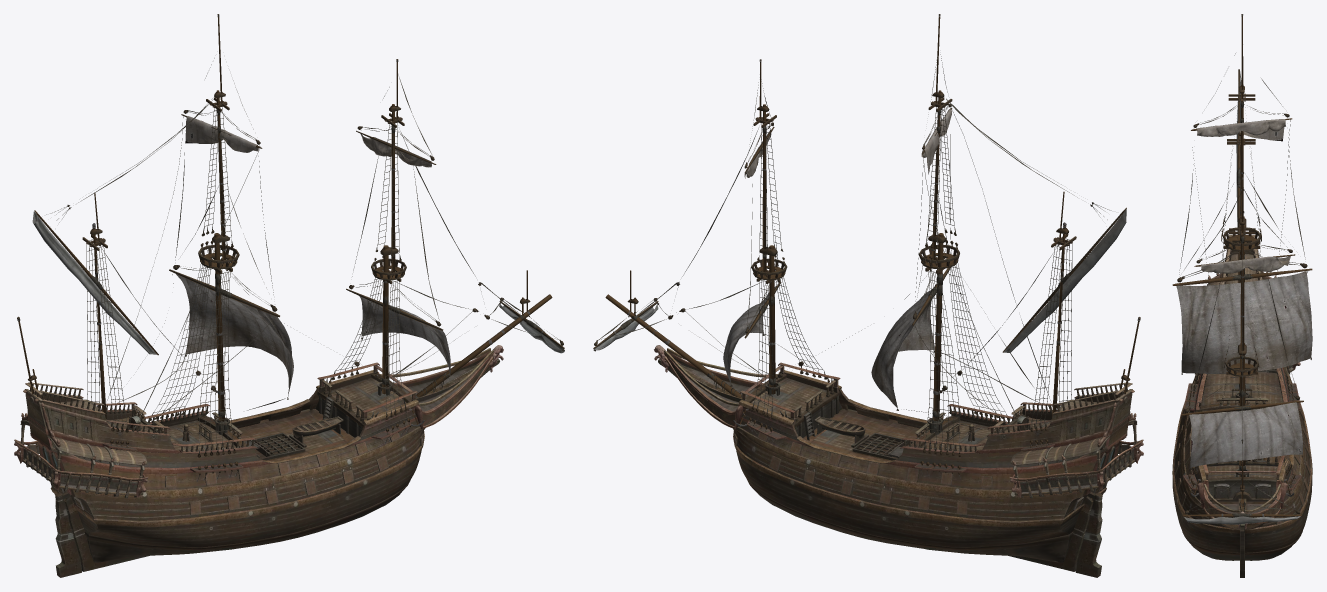
The model's file is dutch_ship_large_01.glb.
3 views of the same model, side by side, from view 1: azimuth 30°, elevation 25°; view 2: azimuth 150°, elevation 25°; view 3: azimuth 270°, elevation 25° (orthographic). The views are drawn at different scales.
Parts seen in each view (by area): view 1: dutch_ship_large_01_hull, dutch_ship_large_01_rigging, dutch_ship_large_01_sails; view 2: dutch_ship_large_01_hull, dutch_ship_large_01_rigging, dutch_ship_large_01_sails; view 3: dutch_ship_large_01_sails, dutch_ship_large_01_hull, dutch_ship_large_01_rigging.
Part boxes in pixels (box(x1,y1,x2,y2)): dutch_ship_large_01_hull: box(14, 345, 503, 577); dutch_ship_large_01_rigging: box(17, 14, 564, 481); dutch_ship_large_01_sails: box(176, 116, 450, 396); dutch_ship_large_01_hull: box(654, 345, 1143, 577); dutch_ship_large_01_rigging: box(593, 14, 1140, 479); dutch_ship_large_01_sails: box(723, 109, 951, 408); dutch_ship_large_01_sails: box(1177, 119, 1312, 467); dutch_ship_large_01_hull: box(1172, 235, 1312, 577); dutch_ship_large_01_rigging: box(1172, 14, 1312, 524).
Bounding box in the file's own units: 34.25 × 32.05 × 8.39.
Materials: 3 (3 with a texture image).
